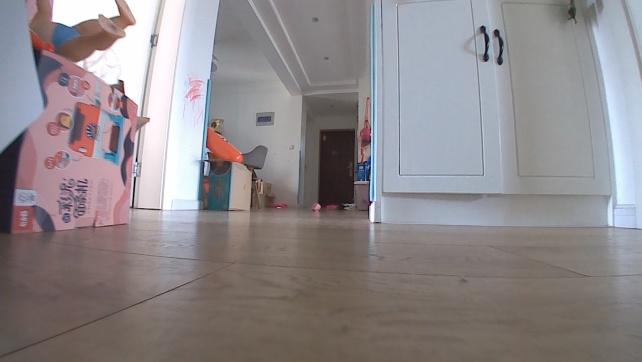door_anno: (316, 127, 356, 209)
